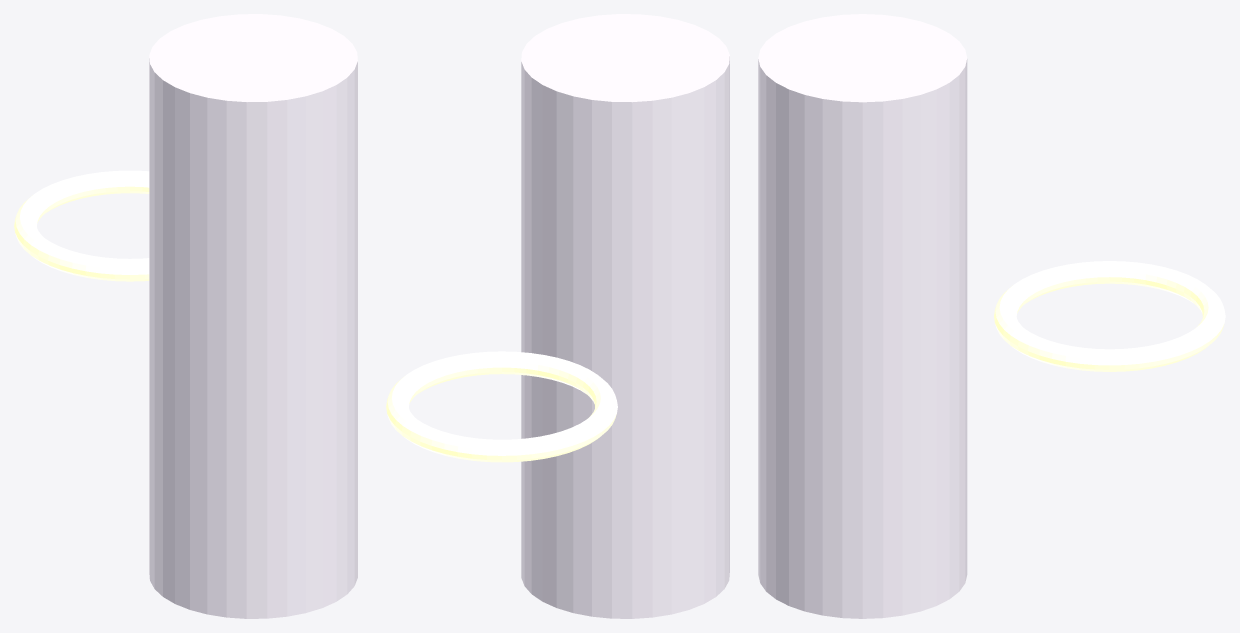
File: pillar.glb
3 views of the same model, side by side, from view 1: azimuth 30°, elevation 25°; view 2: azimuth 150°, elevation 25°; view 3: azimuth 270°, elevation 25° (orthographic).
Visible parts, largest first — view 1: Cylinder, Torus.001; view 2: Cylinder, Torus.001; view 3: Cylinder, Torus.001.
Boxes of the visible parts, <box> form: Cylinder: <box>149,14,357,618</box>; Torus.001: <box>14,170,149,281</box>; Cylinder: <box>521,14,729,618</box>; Torus.001: <box>386,351,617,462</box>; Cylinder: <box>758,14,967,618</box>; Torus.001: <box>994,261,1225,371</box>.
Size of the model in its own units: 2.44 by 6 by 4.92.
